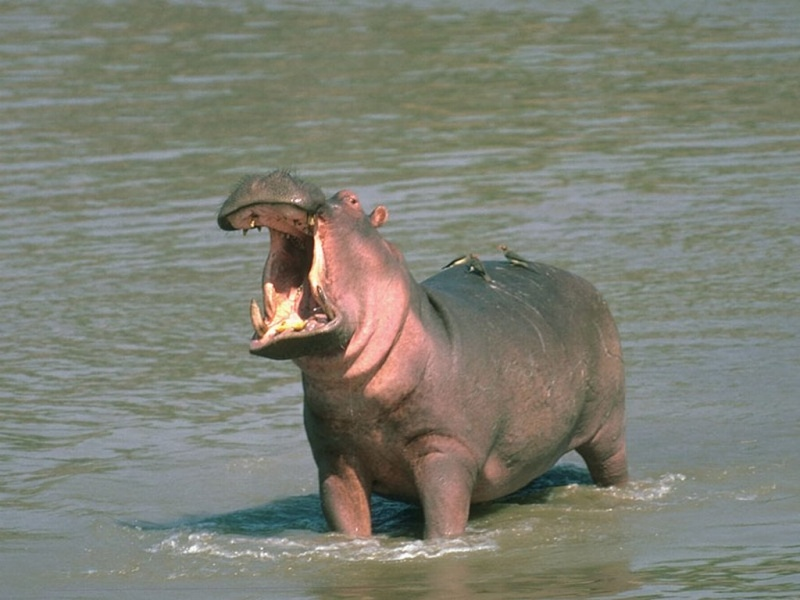hipopotamo: (214, 164, 637, 549)
